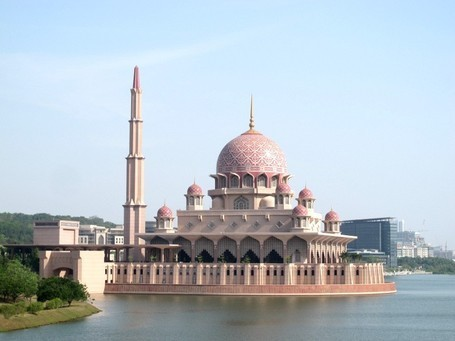Mosque: (58, 72, 366, 298)
